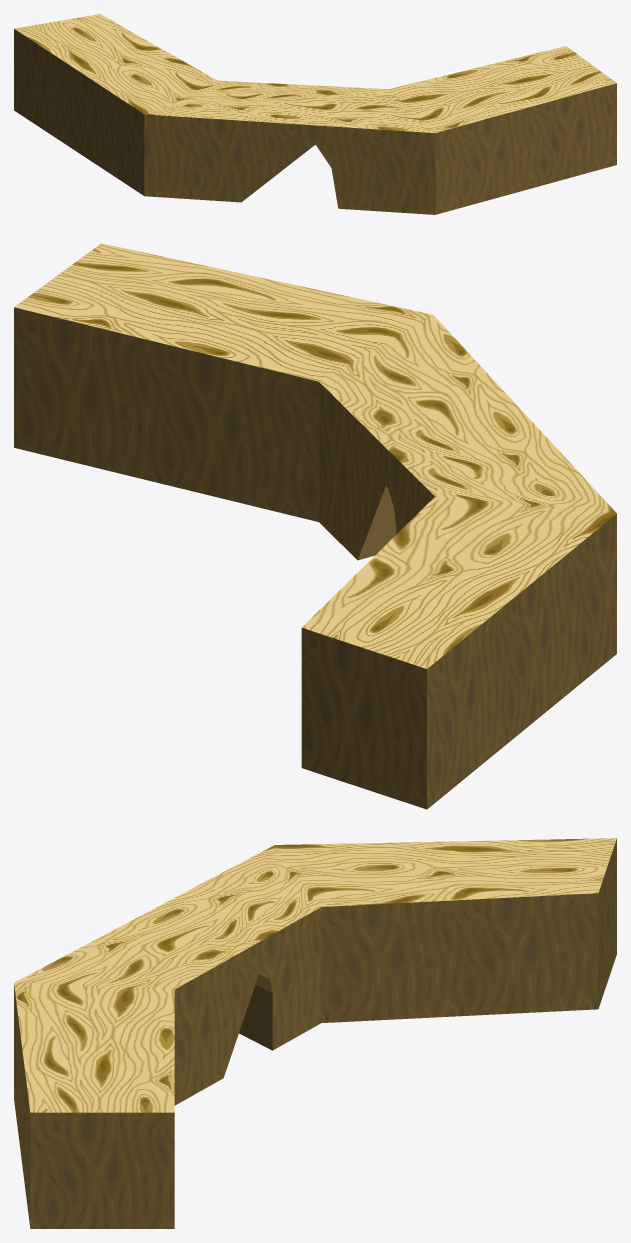
Rendered from CStructure.fbx.
The picture shows the model from 3 angles, top to bottom: view 1: azimuth 30°, elevation 25°; view 2: azimuth 150°, elevation 25°; view 3: azimuth 270°, elevation 25°; orthographic projection. The views are drawn at different scales.
Parts seen in each view (by area): view 1: Cube.021, Cube.001; view 2: Cube.021, Cube.001; view 3: Cube.021, Cube.001.
Part boxes in pixels (x1=…): Cube.021: x1=14, y1=29, x2=616, y2=214; Cube.001: x1=14, y1=14, x2=616, y2=132; Cube.021: x1=14, y1=307, x2=616, y2=809; Cube.001: x1=14, y1=243, x2=616, y2=668; Cube.021: x1=14, y1=839, x2=616, y2=1228; Cube.001: x1=14, y1=838, x2=616, y2=1112.
Size of the model in its own units: 3986 by 786 by 3700.
